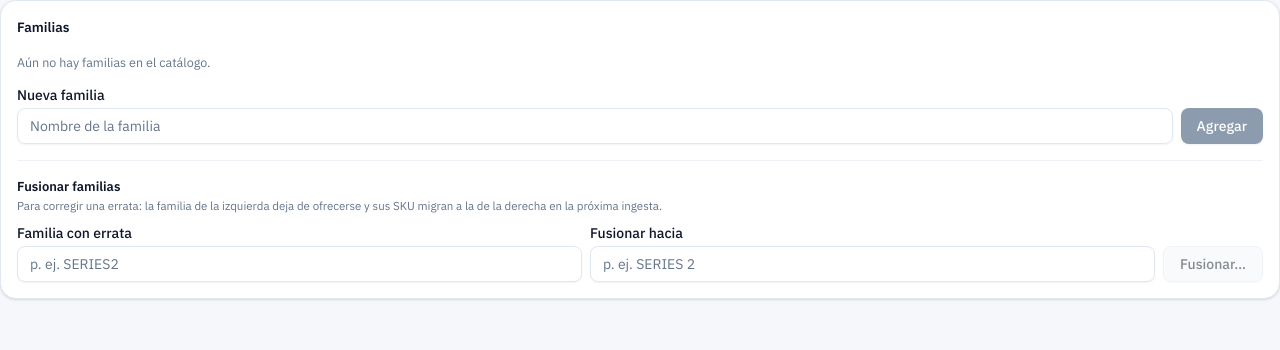
Test: ConfigFamilias › 409 duplicada: muestra error inline 'Ya existe una familia con ese nombre.'
The width and height of the screenshot is (1280, 350).
Expected: the text "Aún no hay familias en el catálogo." is shown, [17, 53, 210, 72]
Type "CANDADOS" into the field labelled "Nueva familia" at (595, 126), box [17, 108, 1173, 144]
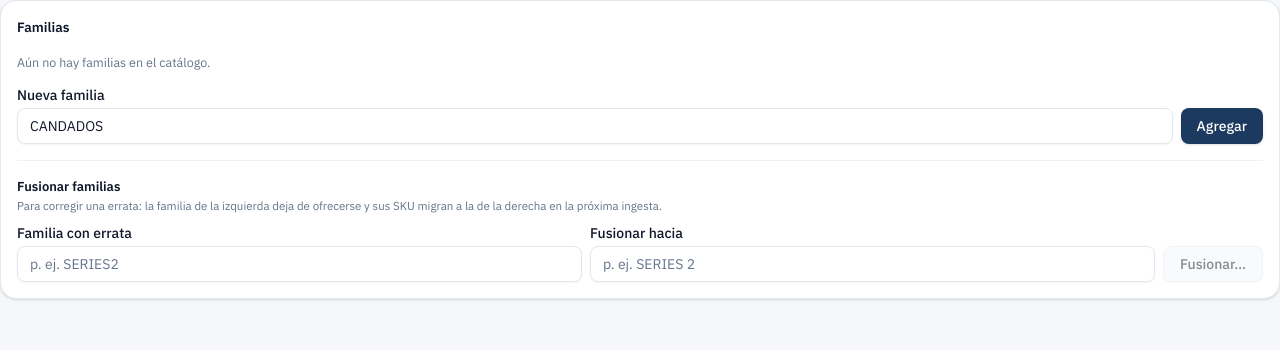
Click the button "Agregar" at (1222, 126), box [1181, 108, 1263, 144]
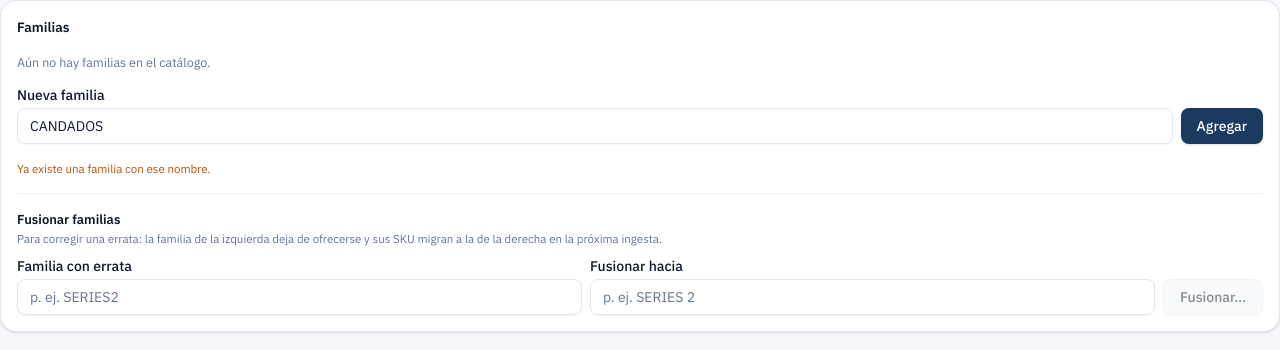
Now the message reads "Ya existe una familia con ese nombre.", box [17, 161, 210, 176]
